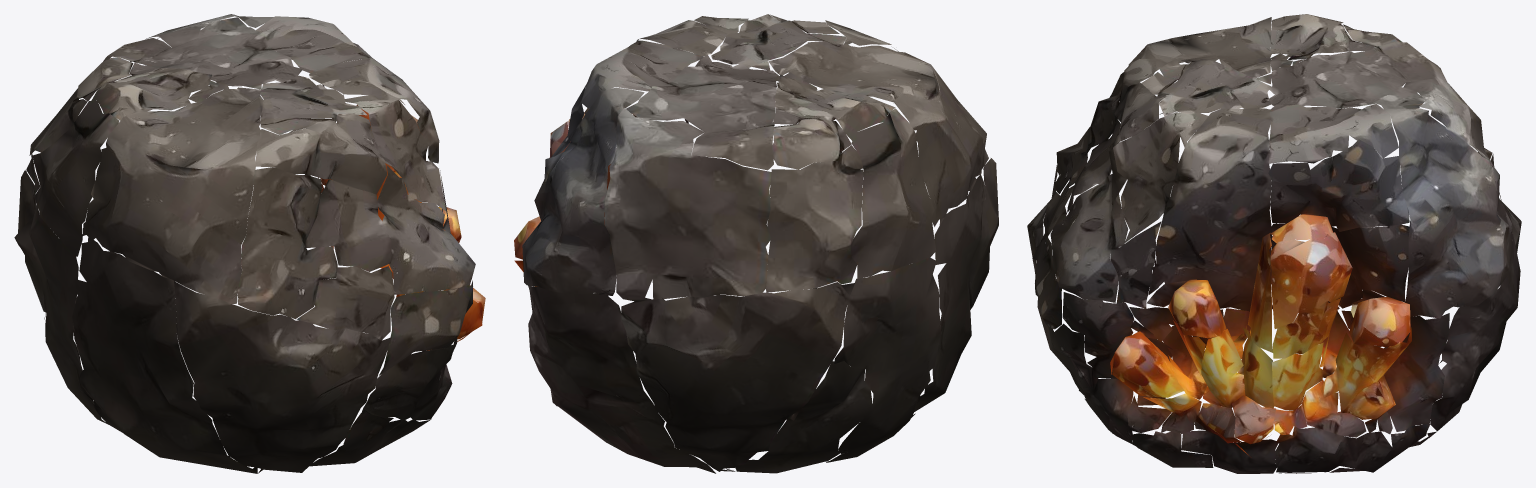
The model's file is ore.glb.
3 renders of one model, left to right at view 1: azimuth 30°, elevation 25°; view 2: azimuth 150°, elevation 25°; view 3: azimuth 270°, elevation 25°, orthographic. The views are drawn at different scales.
Parts seen in each view (by area): view 1: tripo_node_52f0d6d4-e33d-4bfb-9287-852d2c797cdd; view 2: tripo_node_52f0d6d4-e33d-4bfb-9287-852d2c797cdd; view 3: tripo_node_52f0d6d4-e33d-4bfb-9287-852d2c797cdd.
Boxes of the visible parts, bbox=[...] form: tripo_node_52f0d6d4-e33d-4bfb-9287-852d2c797cdd: bbox=[14, 14, 485, 473]; tripo_node_52f0d6d4-e33d-4bfb-9287-852d2c797cdd: bbox=[514, 14, 998, 473]; tripo_node_52f0d6d4-e33d-4bfb-9287-852d2c797cdd: bbox=[1027, 14, 1521, 473].
Size of the model in its own units: 0.8567 by 0.7631 by 1.
1 material, 1 textured.
